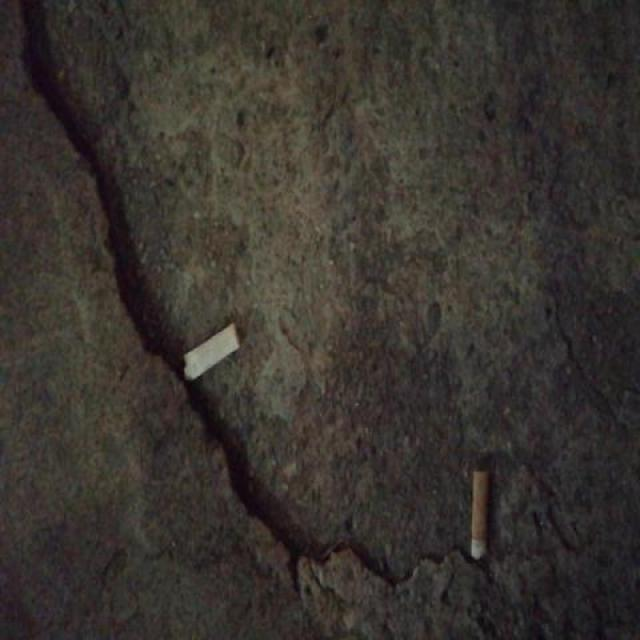non-organic waste: (175, 315, 245, 388), (466, 462, 494, 563)
